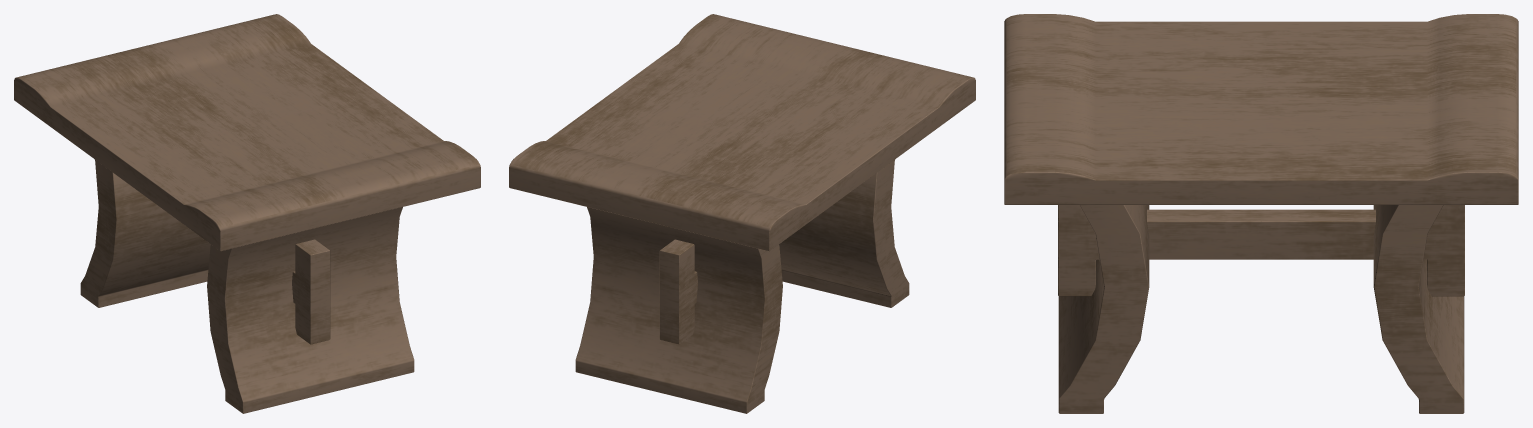
Rendered from SM_interior_modules_01.fbx.
3 renders of one model, left to right at view 1: azimuth 30°, elevation 25°; view 2: azimuth 150°, elevation 25°; view 3: azimuth 270°, elevation 25°, orthographic. The views are drawn at different scales.
Visible parts, largest first — view 1: SM_interior_modules_01; view 2: SM_interior_modules_01; view 3: SM_interior_modules_01.
Part boxes in pixels (left/top/right/bottom): SM_interior_modules_01: left=14, top=14, right=480, bottom=413; SM_interior_modules_01: left=509, top=14, right=975, bottom=413; SM_interior_modules_01: left=1004, top=14, right=1518, bottom=413.
Size of the model in its own units: 52.12 by 71.47 by 41.26.
1 material, 1 textured.
